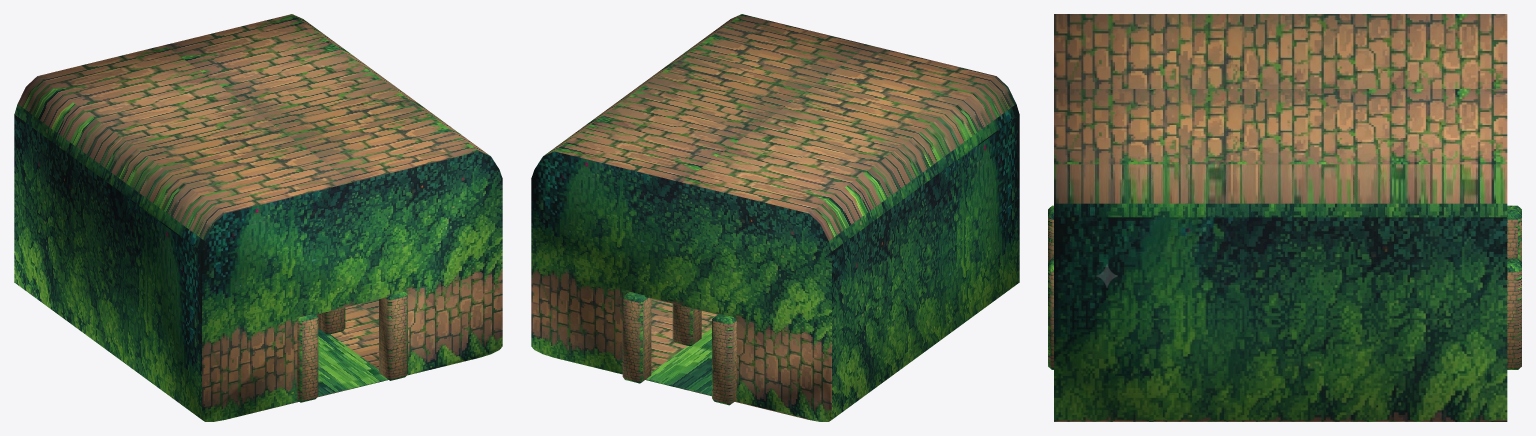
File: newcorridor2.fbx
3 views of the same model, side by side, from view 1: azimuth 30°, elevation 25°; view 2: azimuth 150°, elevation 25°; view 3: azimuth 270°, elevation 25° (orthographic). The views are drawn at different scales.
Visible parts, largest first — view 1: Cube, Cube.003, Cube.006; view 2: Cube, Cube.004, Cube.002; view 3: Cube, Cube.004, Cube.003.
Part boxes in pixels (bbox=[...]): Cube: bbox=[14, 14, 502, 421]; Cube.003: bbox=[297, 292, 407, 402]; Cube.006: bbox=[320, 307, 345, 334]; Cube: bbox=[531, 14, 1019, 421]; Cube.004: bbox=[622, 292, 736, 405]; Cube.002: bbox=[672, 303, 701, 345]; Cube: bbox=[1054, 14, 1507, 421]; Cube.004: bbox=[1507, 205, 1521, 369]; Cube.003: bbox=[1048, 205, 1053, 369].
Size of the model in its own units: 518 by 341 by 585.
